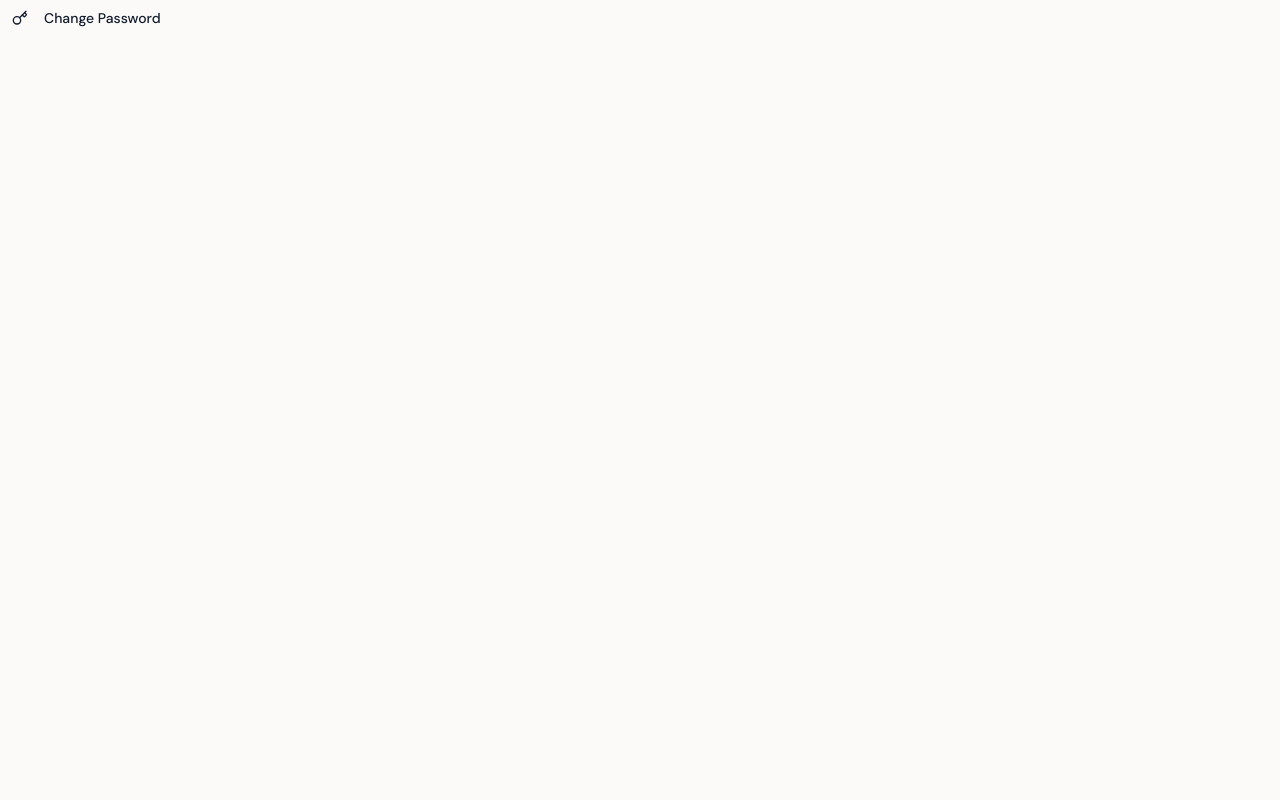
Test case: ChangePasswordDialog › dialog rendering › should open dialog when trigger is clicked
Click the button "Change Password".
click(86, 18)  # box [0,0,173,36]
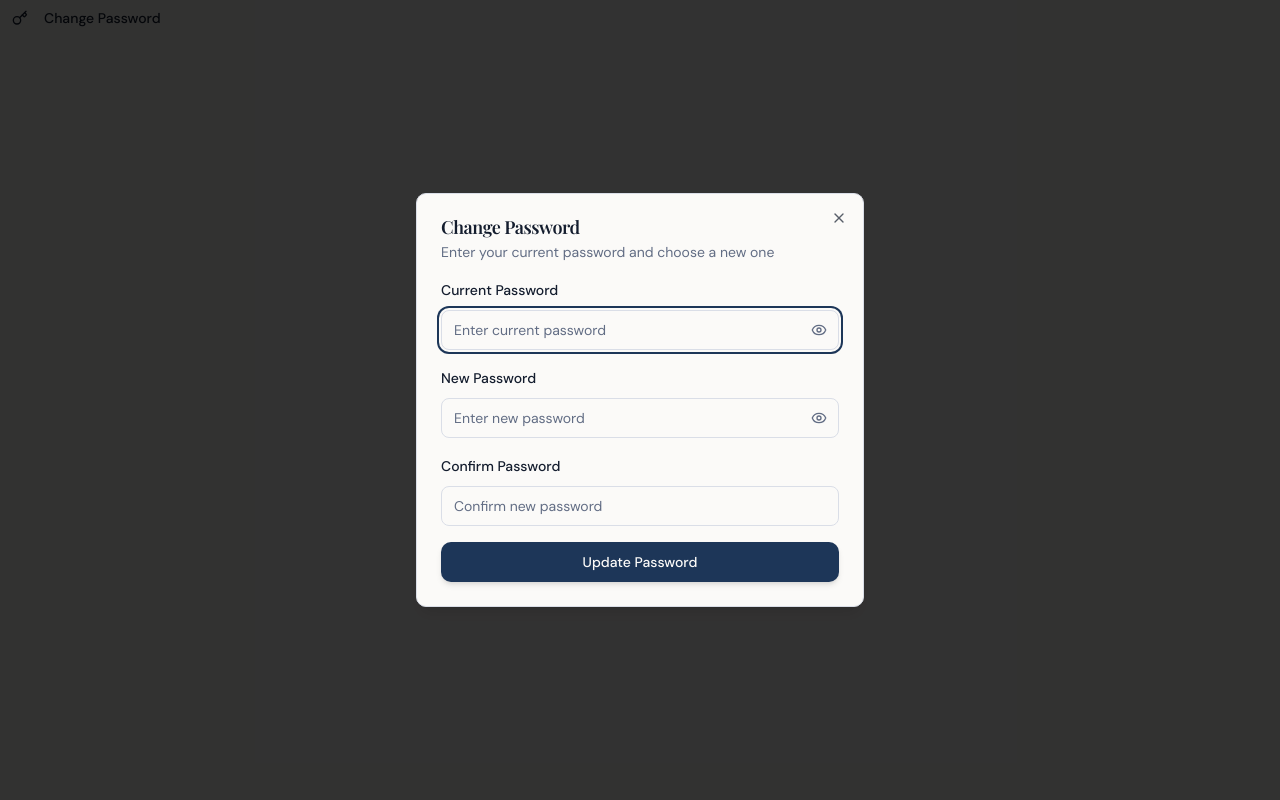
Check: the dialog is shown, box [416,193,864,607]
Check: the text "Enter your current password and choose a new one" is shown, box [441,243,774,261]
